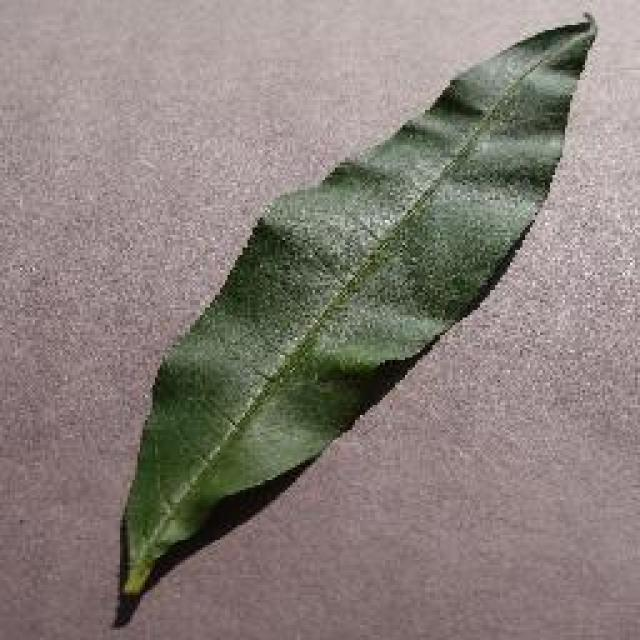Pea_healthy: (160, 59, 574, 461)
